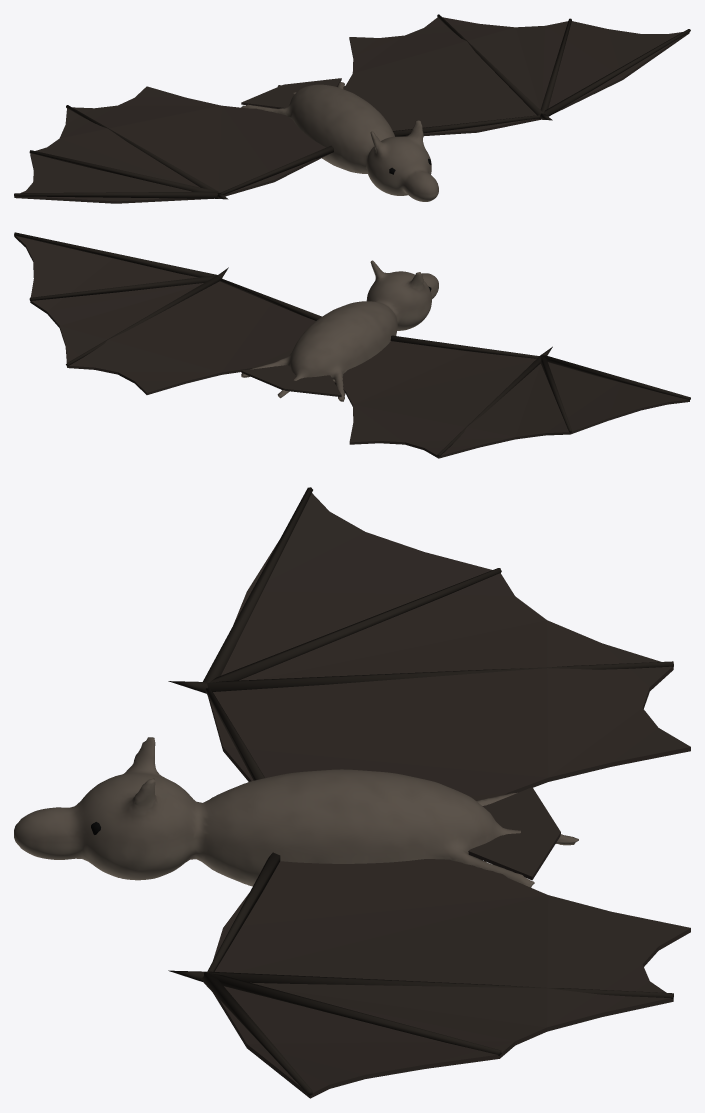
Rendered from VulcanopsJennyworthyae.fbx.
3 renders of one model, top to bottom at view 1: azimuth 30°, elevation 25°; view 2: azimuth 150°, elevation 25°; view 3: azimuth 270°, elevation 25°, orthographic. The views are drawn at different scales.
Parts seen in each view (by area): view 1: VulcanopsJennyworthyae; view 2: VulcanopsJennyworthyae; view 3: VulcanopsJennyworthyae.
Part boxes in pixels (x1,y1,x2,y2): VulcanopsJennyworthyae: [14, 14, 690, 203]; VulcanopsJennyworthyae: [14, 232, 690, 458]; VulcanopsJennyworthyae: [14, 487, 690, 1098].
Bounding box in the file's own units: 1.8 × 0.1834 × 0.8536.
